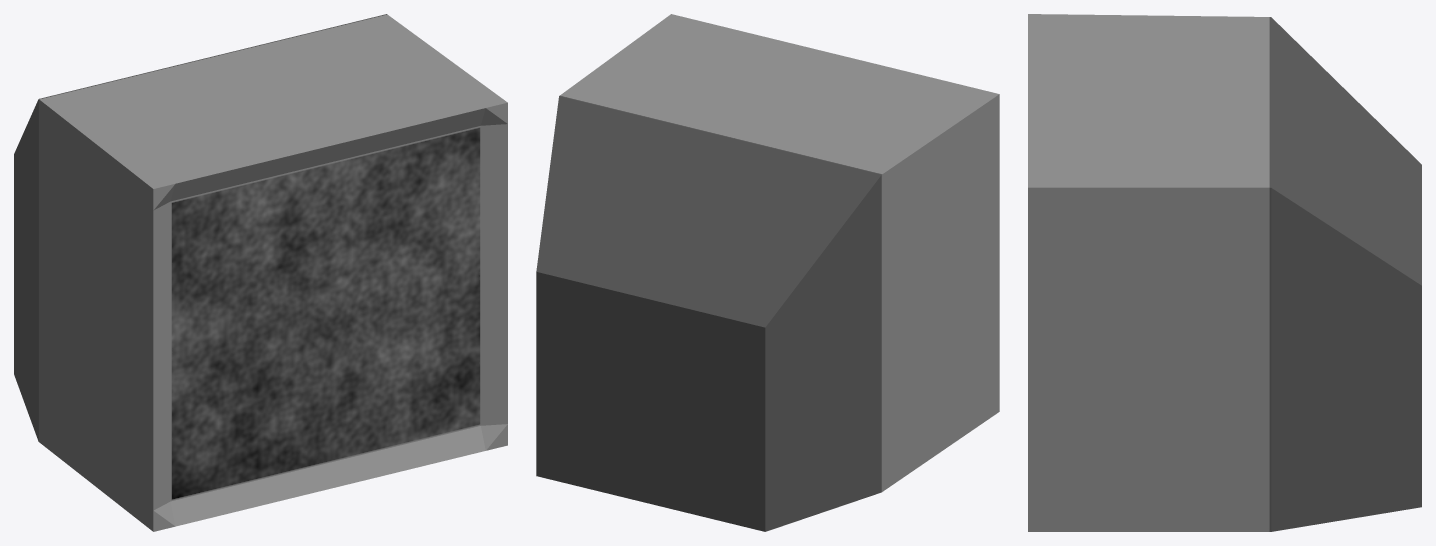
Rendered from enemy.obj.
3 views of the same model, side by side, from view 1: azimuth 30°, elevation 25°; view 2: azimuth 150°, elevation 25°; view 3: azimuth 270°, elevation 25° (orthographic). The views are drawn at different scales.
Parts seen in each view (by area): view 1: 立方体.001; view 2: 立方体.001; view 3: 立方体.001.
Part boxes in pixels (x1,y1,x2,y2): 立方体.001: (14, 14, 507, 531); 立方体.001: (536, 14, 999, 531); 立方体.001: (1028, 14, 1421, 531).
Size of the model in its own units: 1.22 by 1.13 by 1.17.
